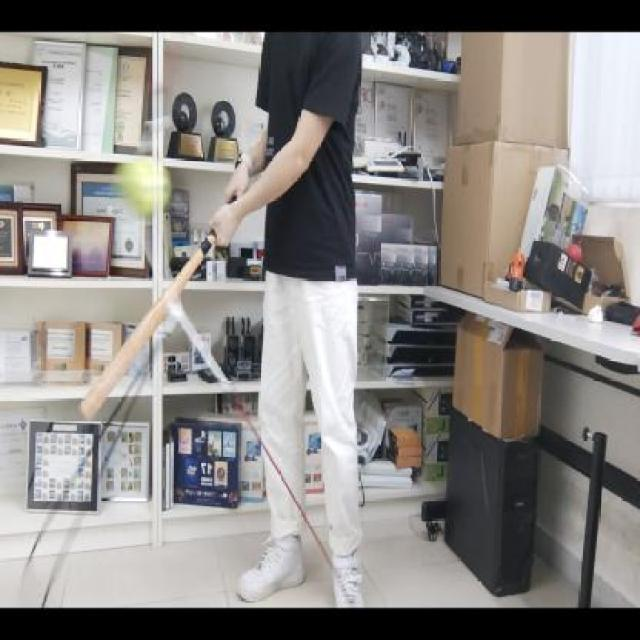baseball: (114, 154, 174, 220)
